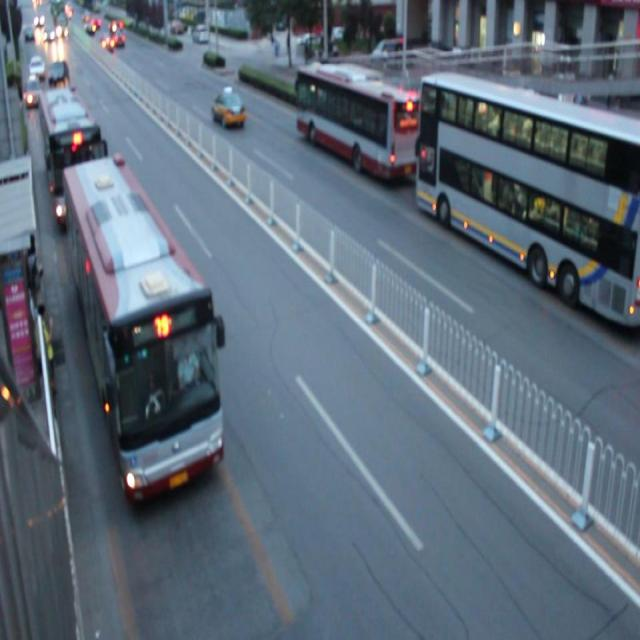car: (212, 90, 245, 132)
van: (417, 73, 640, 328), (63, 163, 221, 502), (295, 64, 424, 178), (40, 89, 106, 222)
